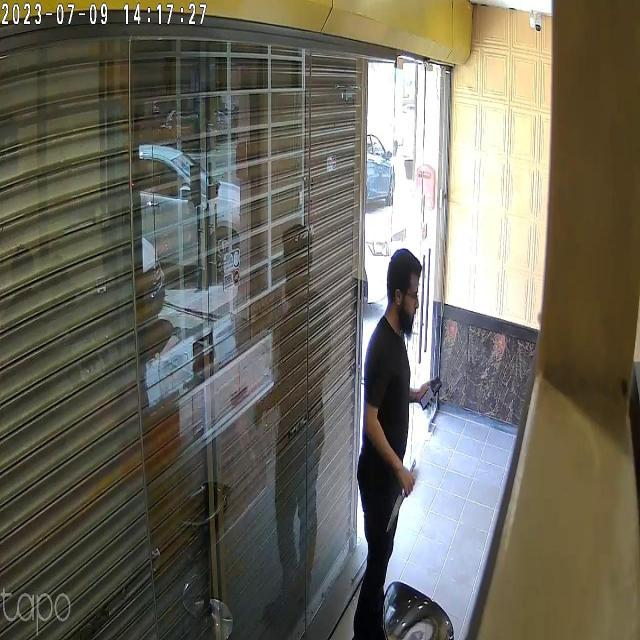Knife: (380, 466, 416, 542)
